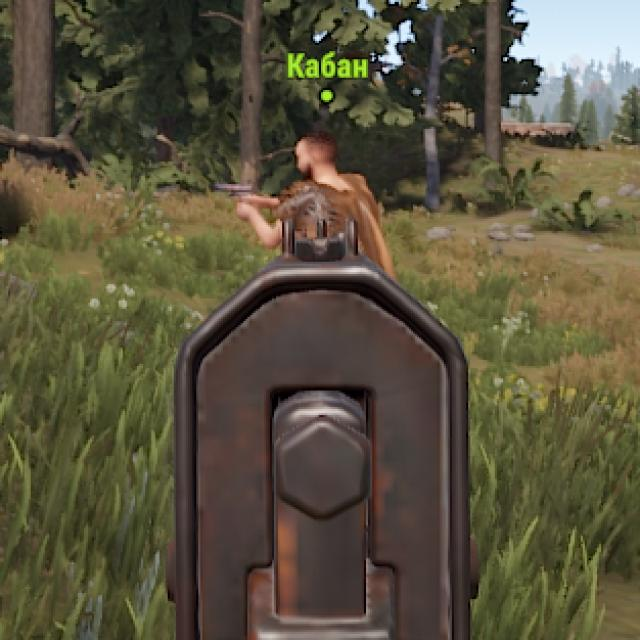Player: (264, 137, 382, 223)
